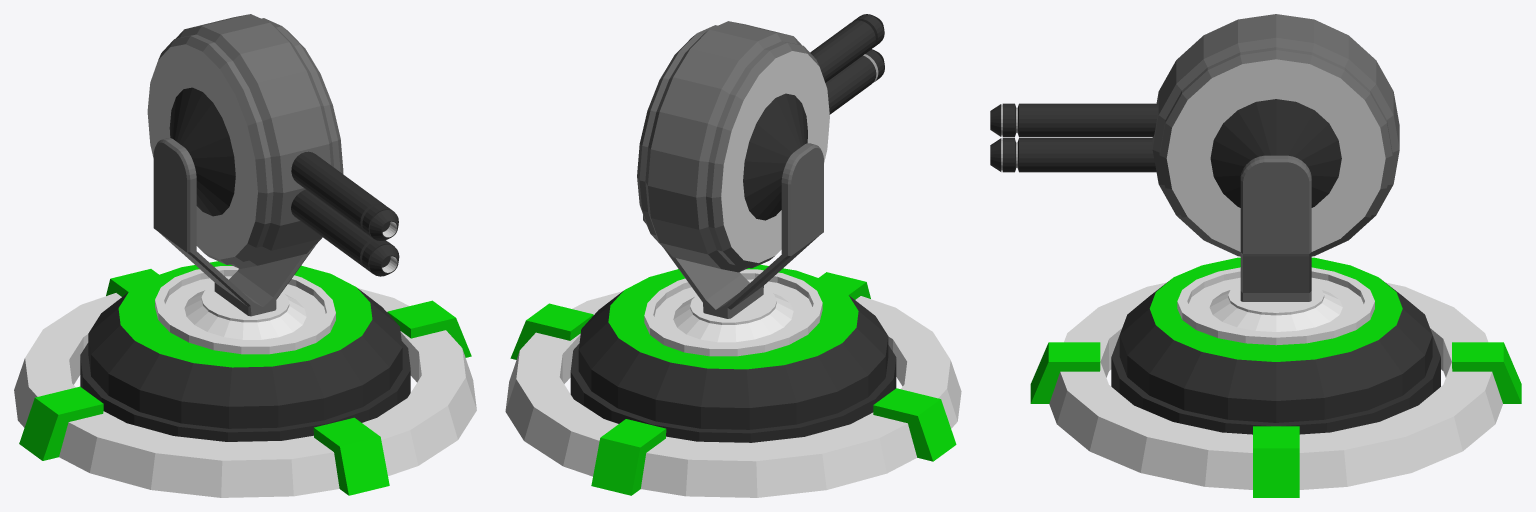
Rendered from LaserTurret.fbx.
3 renders of one model, left to right at view 1: azimuth 30°, elevation 25°; view 2: azimuth 150°, elevation 25°; view 3: azimuth 270°, elevation 25°, orthographic.
Visible parts, largest first — view 1: Turret_Pivot, Turret_base; view 2: Turret_Pivot, Turret_base; view 3: Turret_Pivot, Turret_base.
Part boxes in pixels (left/top/right/bottom): Turret_Pivot: left=80, top=14, right=410, bottom=441; Turret_base: left=14, top=269, right=476, bottom=497; Turret_Pivot: left=570, top=14, right=896, bottom=442; Turret_base: left=505, top=272, right=961, bottom=497; Turret_Pivot: left=990, top=14, right=1440, bottom=434; Turret_base: left=1030, top=282, right=1521, bottom=497.
Size of the model in its own units: 3.58 by 2.96 by 3.87.
